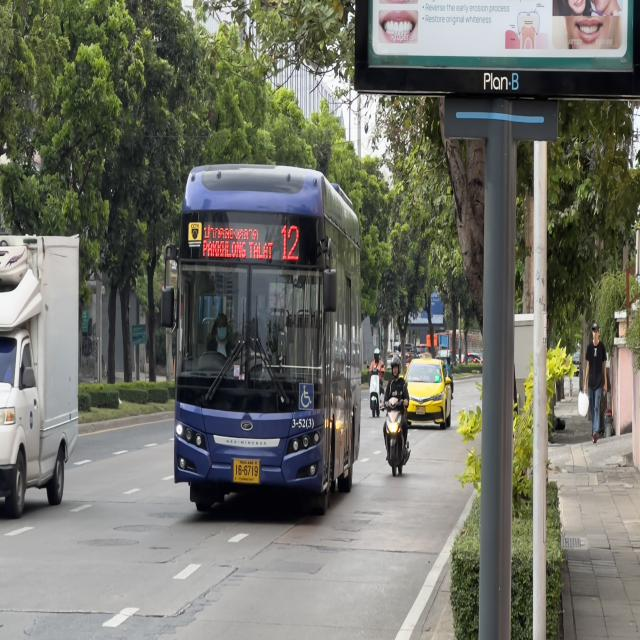Bus-Line-Number: (278, 220, 303, 267)
Destination-Sign-Normal: (200, 215, 275, 265)
TSB-Bus: (172, 164, 360, 517)
